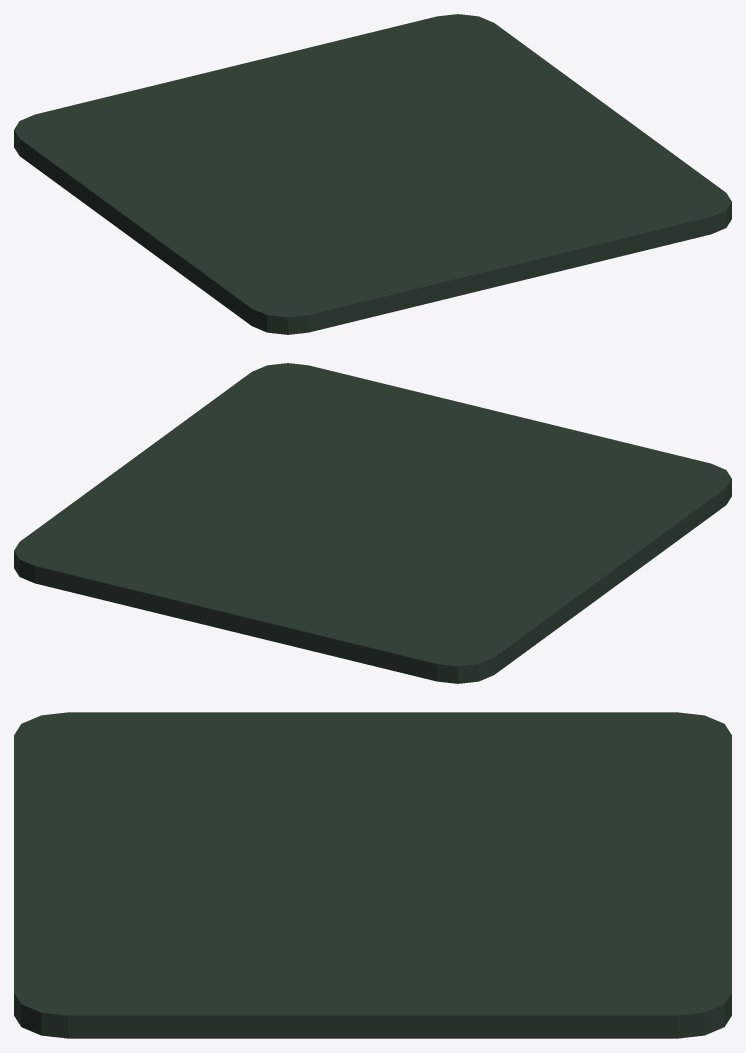
The model's file is FoodIngredient_Nori.fbx.
3 views of the same model, one above another, from view 1: azimuth 30°, elevation 25°; view 2: azimuth 150°, elevation 25°; view 3: azimuth 270°, elevation 25° (orthographic). The views are drawn at different scales.
Parts seen in each view (by area): view 1: FoodIngredient_Nori; view 2: FoodIngredient_Nori; view 3: FoodIngredient_Nori.
Boxes of the visible parts, x1,y1,x2,y2 form: FoodIngredient_Nori: (14,14,731,334); FoodIngredient_Nori: (14,363,731,683); FoodIngredient_Nori: (14,712,731,1038).
Size of the model in its own units: 101 by 3.57 by 101.
